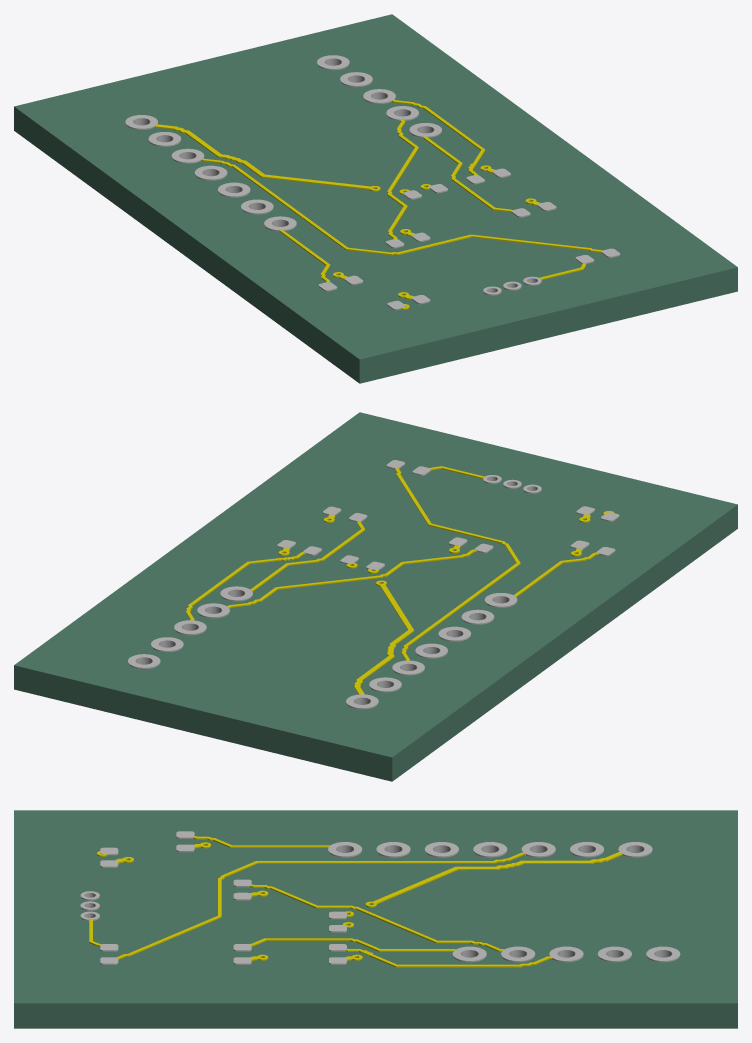
Rendered from HB2_with_components.glb.
The picture shows the model from 3 angles, top to bottom: view 1: azimuth 30°, elevation 25°; view 2: azimuth 150°, elevation 25°; view 3: azimuth 270°, elevation 25°; orthographic projection. The views are drawn at different scales.
Parts seen in each view (by area): view 1: =>[0:1:1:5], =>[0:1:1:3], =>[0:1:1:2]; view 2: =>[0:1:1:5], =>[0:1:1:3], =>[0:1:1:2]; view 3: =>[0:1:1:5], =>[0:1:1:3], =>[0:1:1:2].
Boxes of the visible parts, bbox=[...] form: =>[0:1:1:5]: bbox=[14, 14, 737, 383]; =>[0:1:1:3]: bbox=[125, 55, 620, 310]; =>[0:1:1:2]: bbox=[154, 99, 602, 309]; =>[0:1:1:5]: bbox=[14, 412, 737, 781]; =>[0:1:1:3]: bbox=[128, 460, 619, 709]; =>[0:1:1:2]: bbox=[186, 466, 614, 694]; =>[0:1:1:5]: bbox=[14, 810, 737, 1028]; =>[0:1:1:3]: bbox=[80, 831, 680, 964]; =>[0:1:1:2]: bbox=[89, 836, 622, 967].
Size of the model in its own units: 0.024 by 0.00162 by 0.038.
